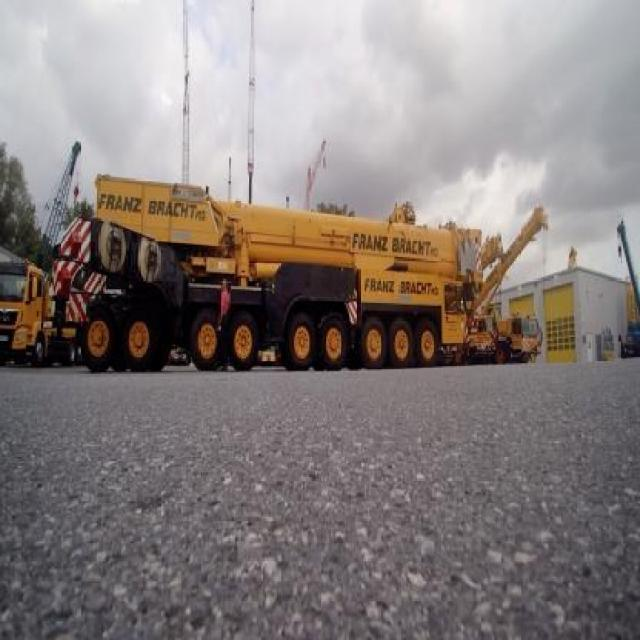Mobile Crane: (52, 172, 477, 368)
